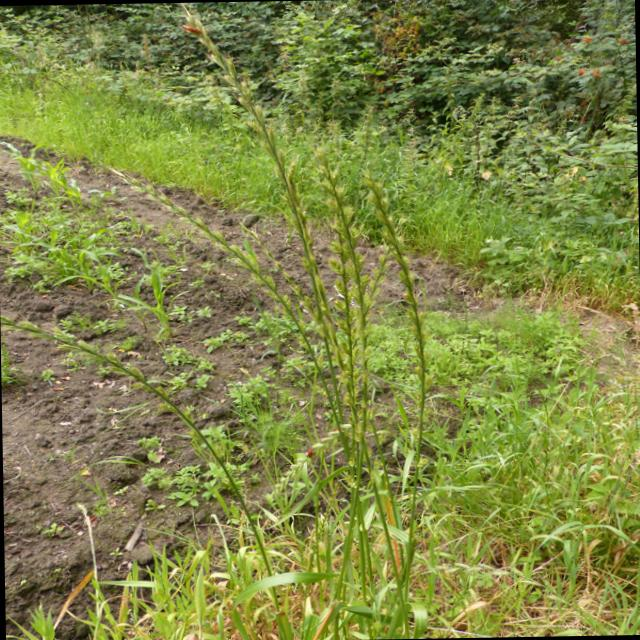Lolium: (0, 0, 640, 640), (202, 9, 380, 604), (12, 308, 310, 624), (369, 169, 442, 585), (319, 150, 388, 548)
